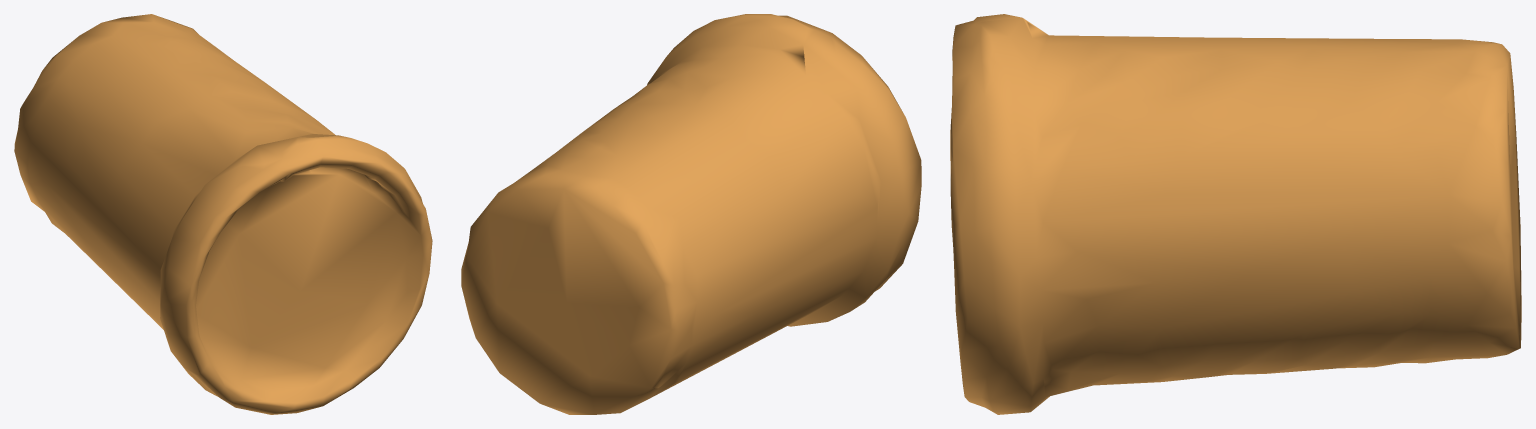
Rendered from cup1_6.dae.
3 views of the same model, side by side, from view 1: azimuth 30°, elevation 25°; view 2: azimuth 150°, elevation 25°; view 3: azimuth 270°, elevation 25° (orthographic). The views are drawn at different scales.
Parts seen in each view (by area): view 1: BakingVanilla_800_tex_019; view 2: BakingVanilla_800_tex_019; view 3: BakingVanilla_800_tex_019.
Part boxes in pixels (x1,y1,x2,y2): BakingVanilla_800_tex_019: [14, 14, 432, 414]; BakingVanilla_800_tex_019: [461, 14, 921, 414]; BakingVanilla_800_tex_019: [950, 14, 1521, 414].
Bounding box in the file's own units: 0.1593 × 0.2268 × 0.1605.
